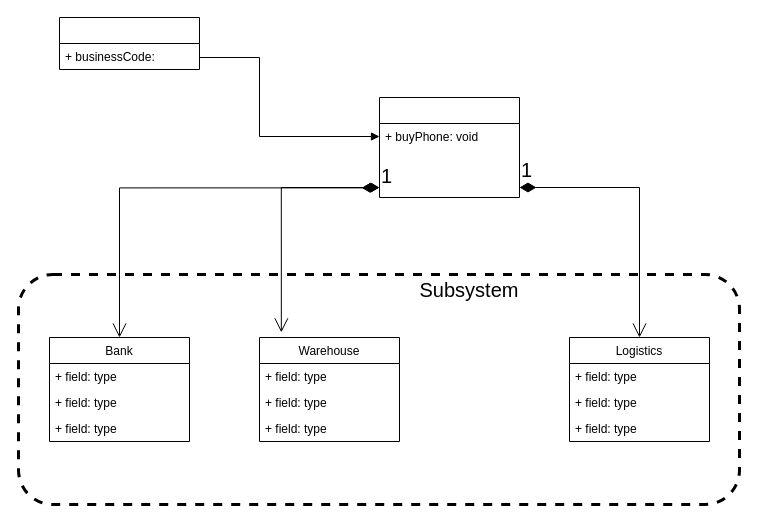
The diagram is 758 pixels wide and 523 high, and some of its shapes have lost their labels. The shapes that lost their labels are listed below. From the top down, each one's box as (x1, y1, x2, y2) in pixels, then its label:
(58, 16, 200, 70): ClientCode
(378, 96, 520, 198): AppleStore
